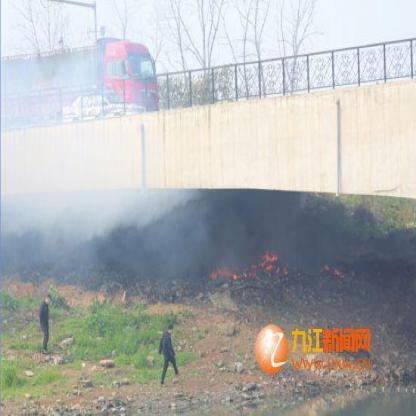fire: (210, 248, 277, 280), (328, 262, 342, 276)
other: (100, 34, 160, 110)
smoke: (49, 196, 168, 233)
